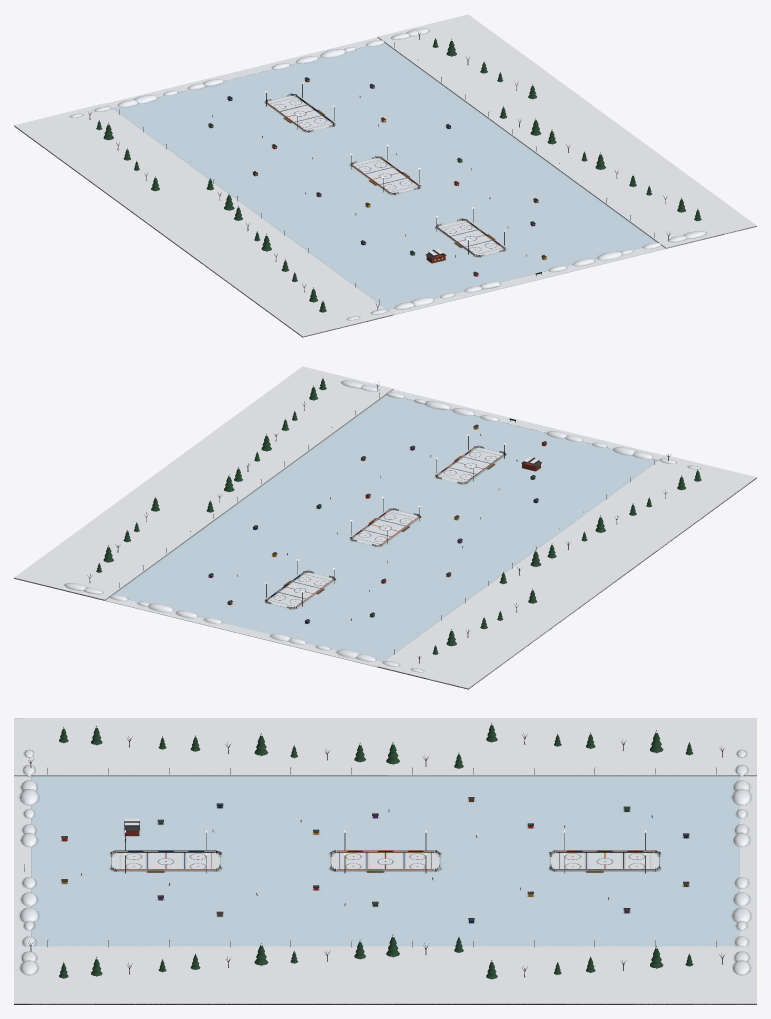
The model's file is lago_helado.glb.
3 views of the same model, one above another, from view 1: azimuth 30°, elevation 25°; view 2: azimuth 150°, elevation 25°; view 3: azimuth 270°, elevation 25° (orthographic). The views are drawn at different scales.
Visible parts, largest first — view 1: lago_helado; view 2: lago_helado; view 3: lago_helado.
Part boxes in pixels (box(x1,y1,x2,y2)): lago_helado: box(14, 14, 756, 337); lago_helado: box(14, 366, 756, 689); lago_helado: box(14, 718, 756, 1004).
Bounding box in the file's own units: 400 × 18.03 × 440.
Materials: 1 (1 with a texture image).
